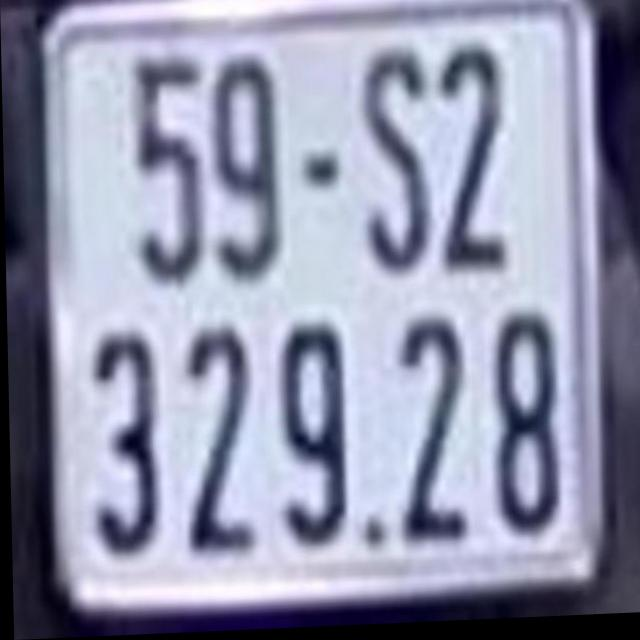2: (390, 316, 470, 544), (437, 49, 512, 268), (182, 323, 253, 553)
3: (87, 332, 154, 558)
5: (132, 49, 202, 278)
8: (491, 315, 558, 532)
9: (277, 324, 344, 550), (211, 54, 278, 276)
S: (357, 48, 432, 272)
